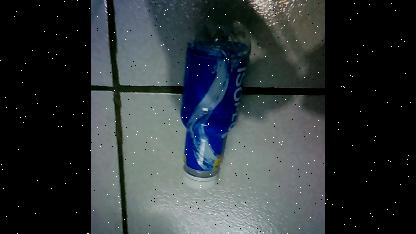Plastic Bottle: (183, 19, 252, 189)
